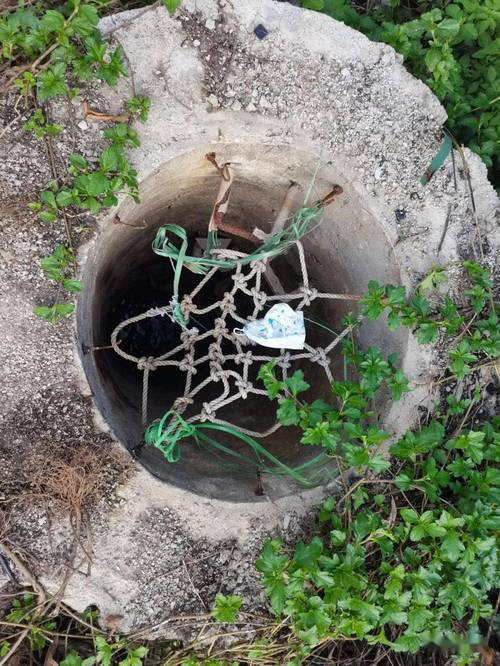lose: (51, 133, 466, 570)
